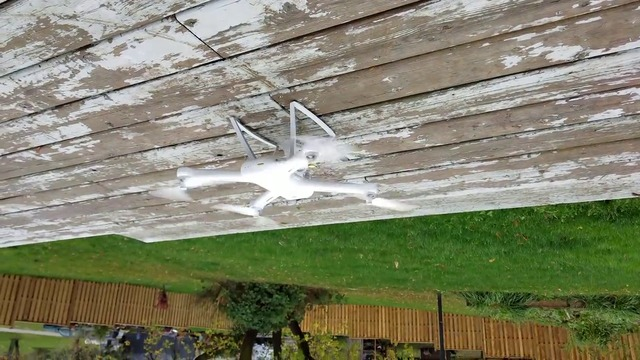drone: (176, 100, 398, 215)
